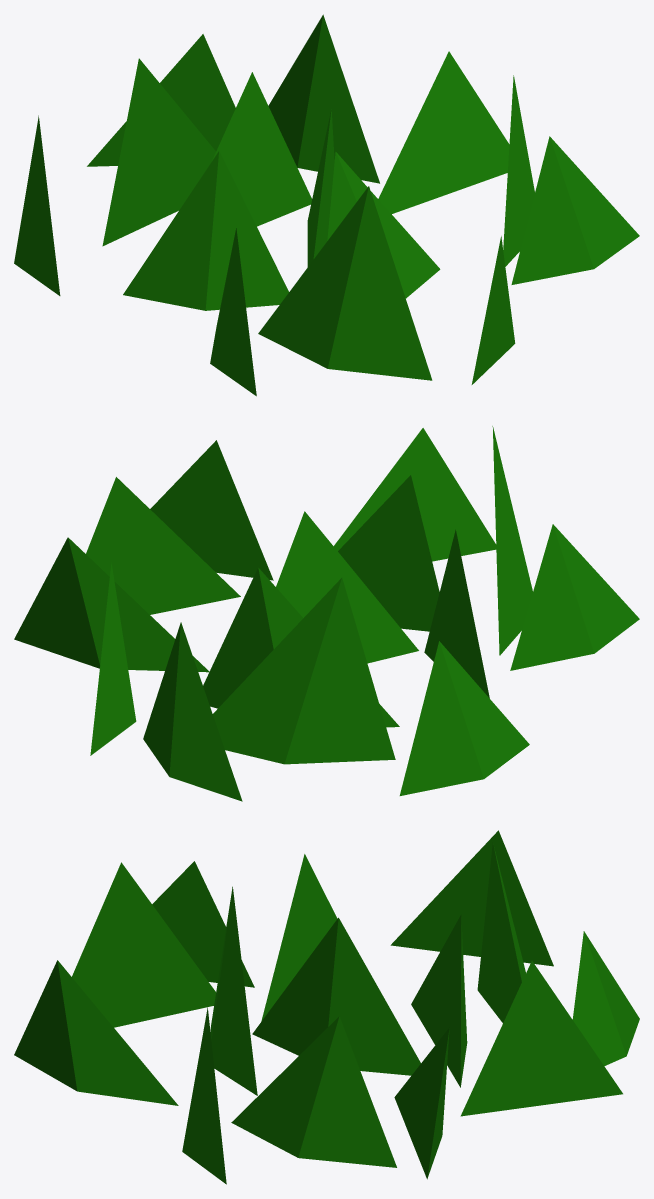
Rendered from grass.fbx.
3 views of the same model, one above another, from view 1: azimuth 30°, elevation 25°; view 2: azimuth 150°, elevation 25°; view 3: azimuth 270°, elevation 25° (orthographic). The views are drawn at different scales.
Visible parts, largest first — view 1: Grass; view 2: Grass; view 3: Grass.
Part boxes in pixels (bbox=[...]): Grass: bbox=[14, 14, 639, 396]; Grass: bbox=[14, 426, 639, 801]; Grass: bbox=[14, 830, 639, 1184].
Bounding box in the file's own units: 153 × 50.51 × 169.
